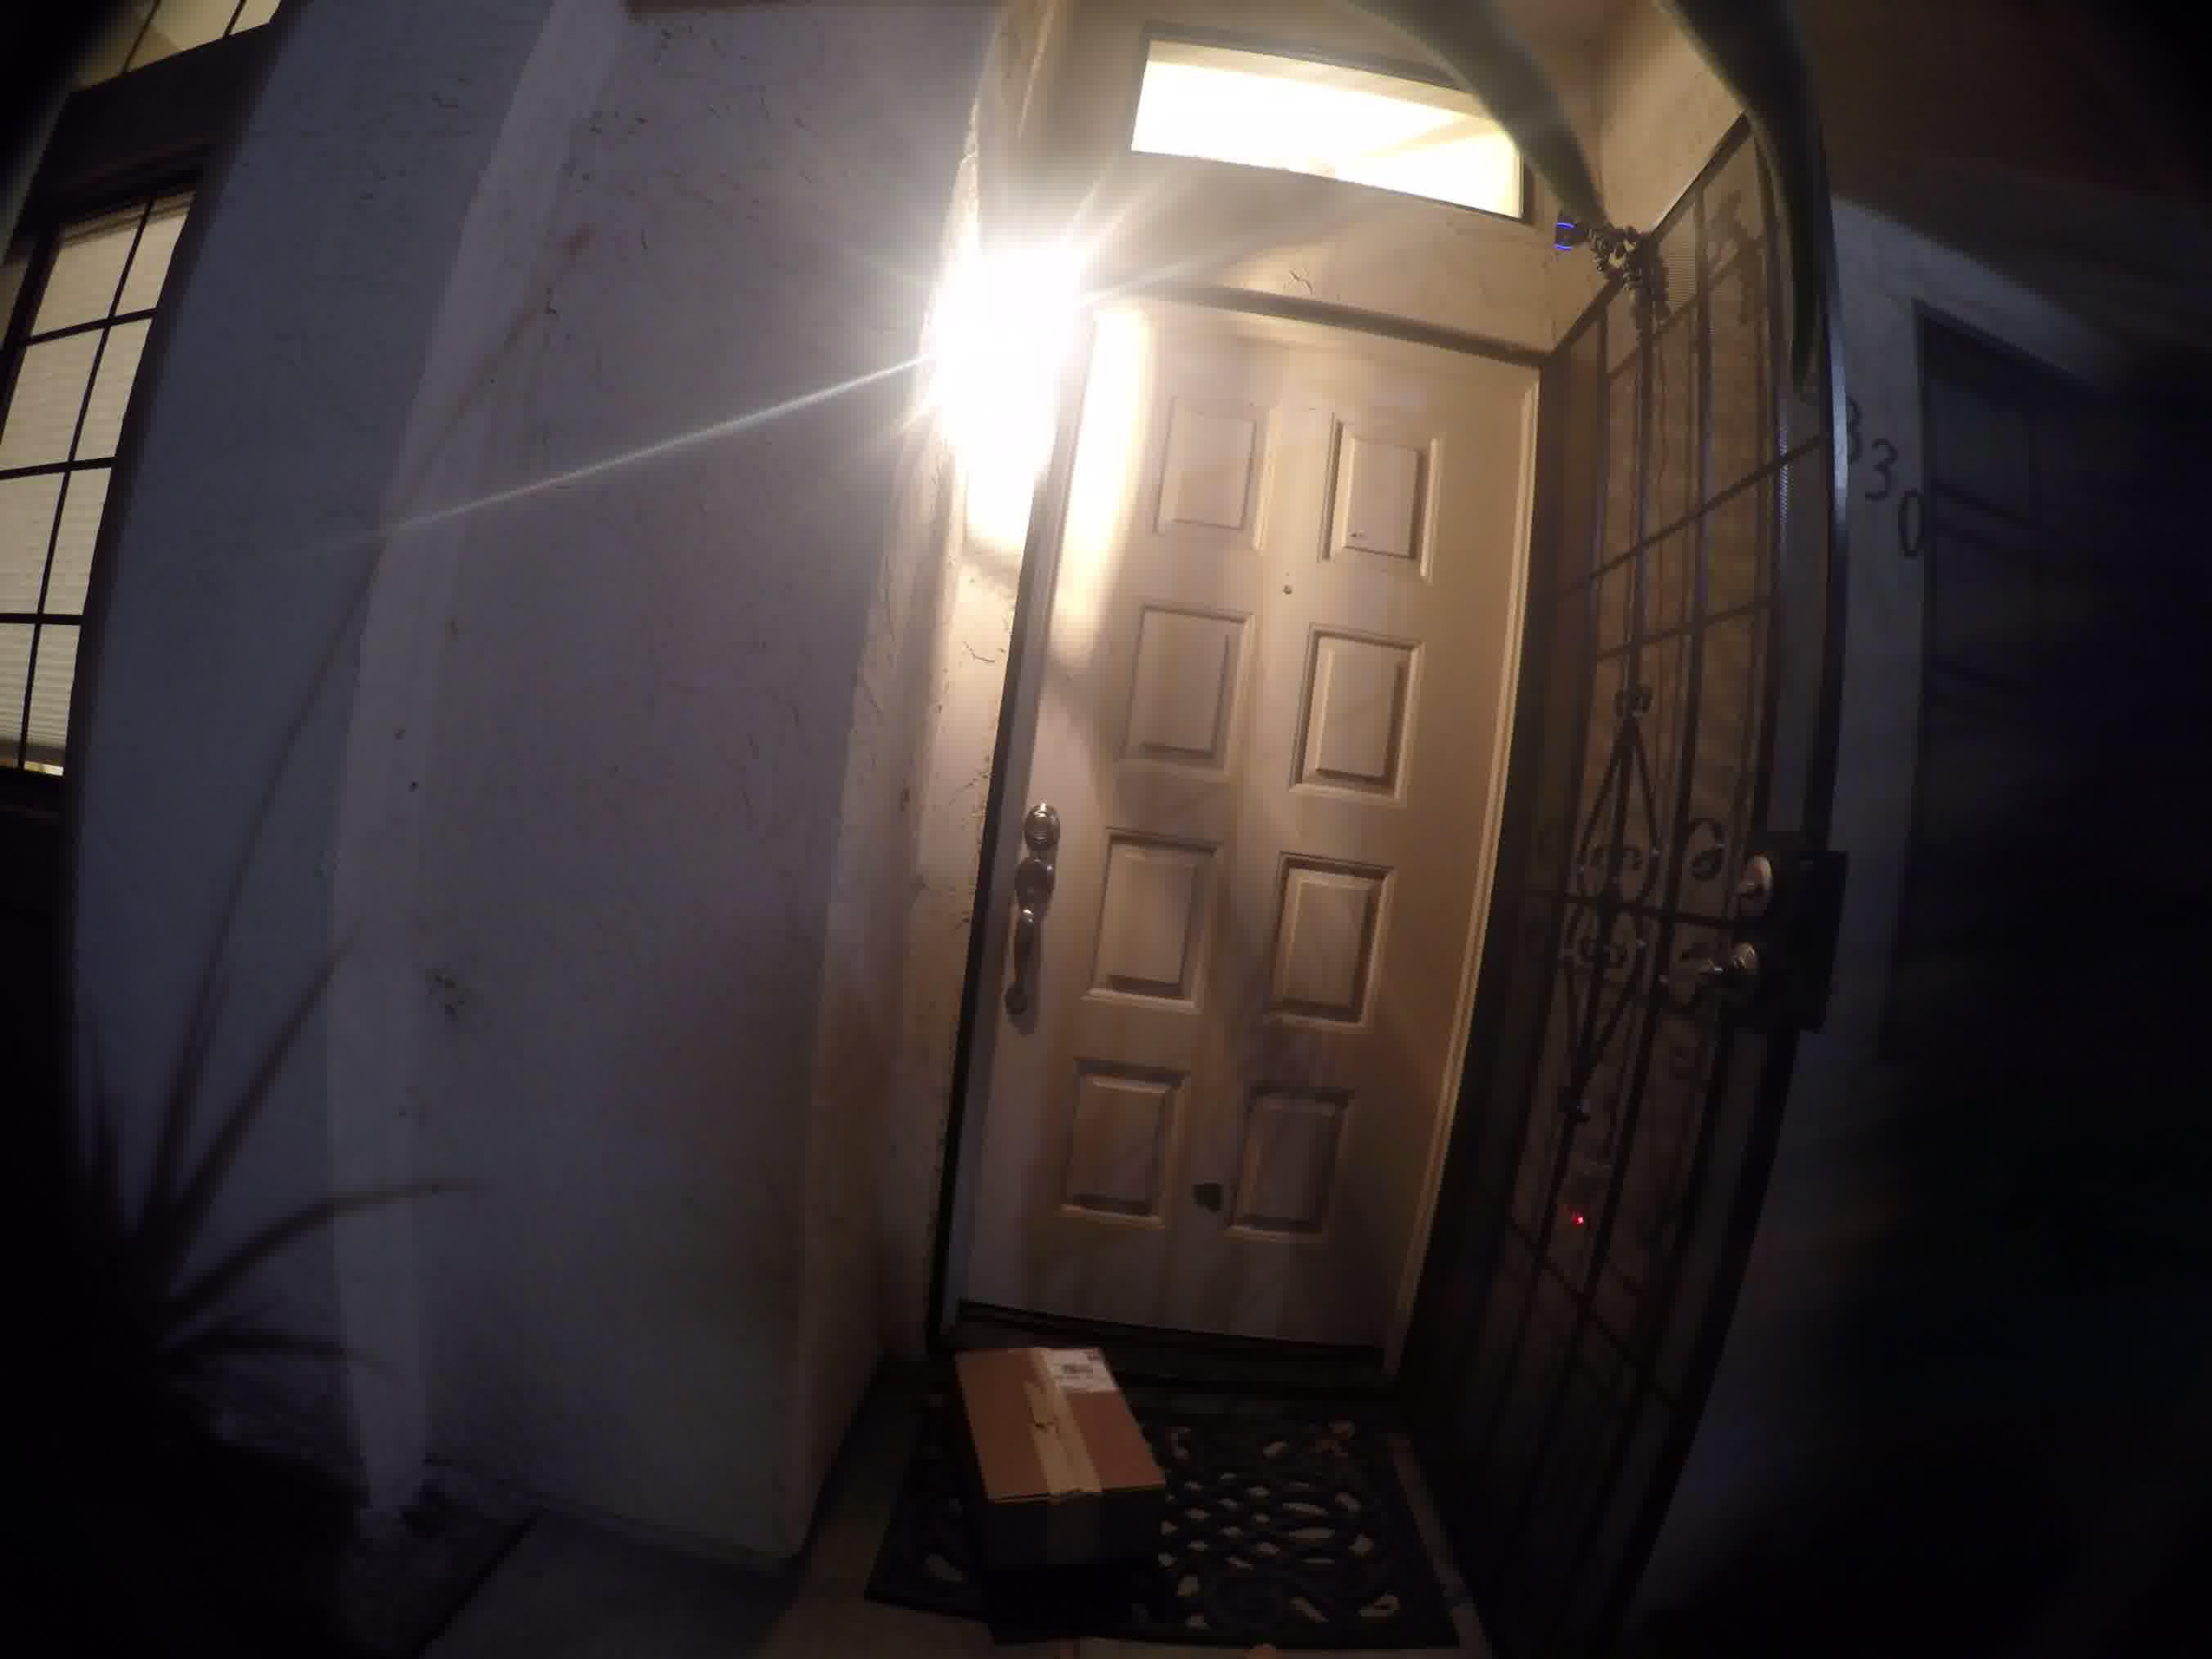box: (942, 1324, 1176, 1608)
